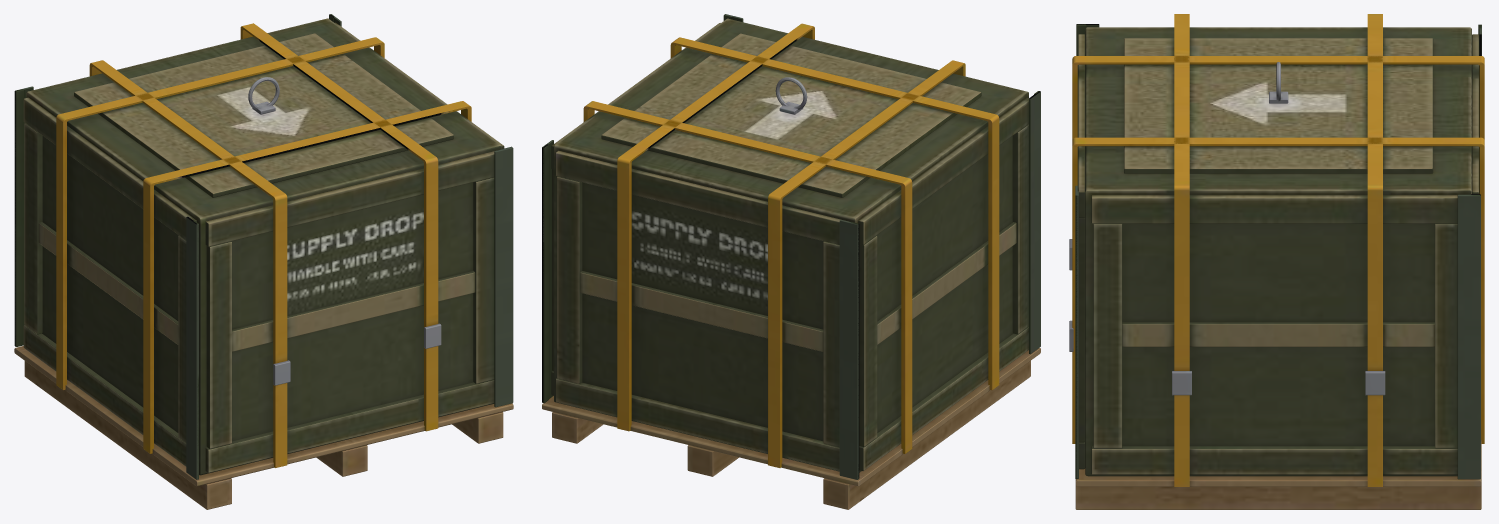
File: airdrop_crate.glb
The picture shows the model from 3 angles, left to right: view 1: azimuth 30°, elevation 25°; view 2: azimuth 150°, elevation 25°; view 3: azimuth 270°, elevation 25°; orthographic projection. The views are drawn at different scales.
Visible parts, largest first — view 1: crate; view 2: crate; view 3: crate.
Part boxes in pixels (x1,y1,x2,y2): crate: [14, 14, 513, 509]; crate: [542, 14, 1040, 509]; crate: [1069, 14, 1484, 509].
Size of the model in its own units: 1.29 by 1.25 by 1.29.
Materials: 1 (1 with a texture image).
